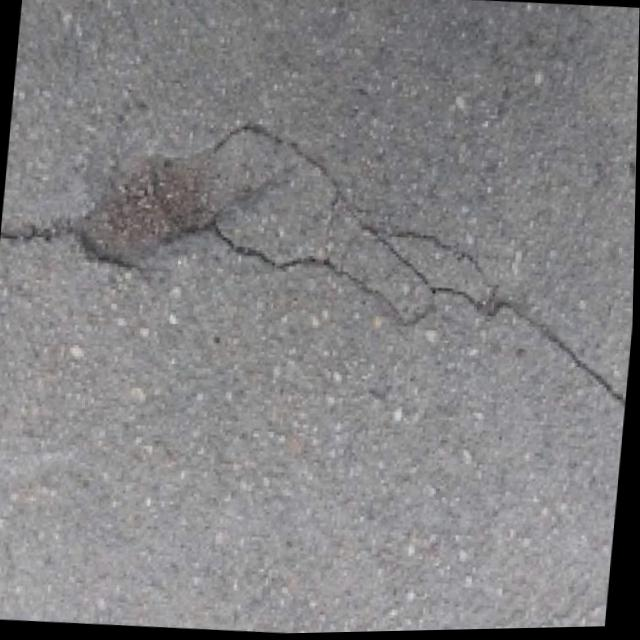Crack: (0, 87, 638, 444)
